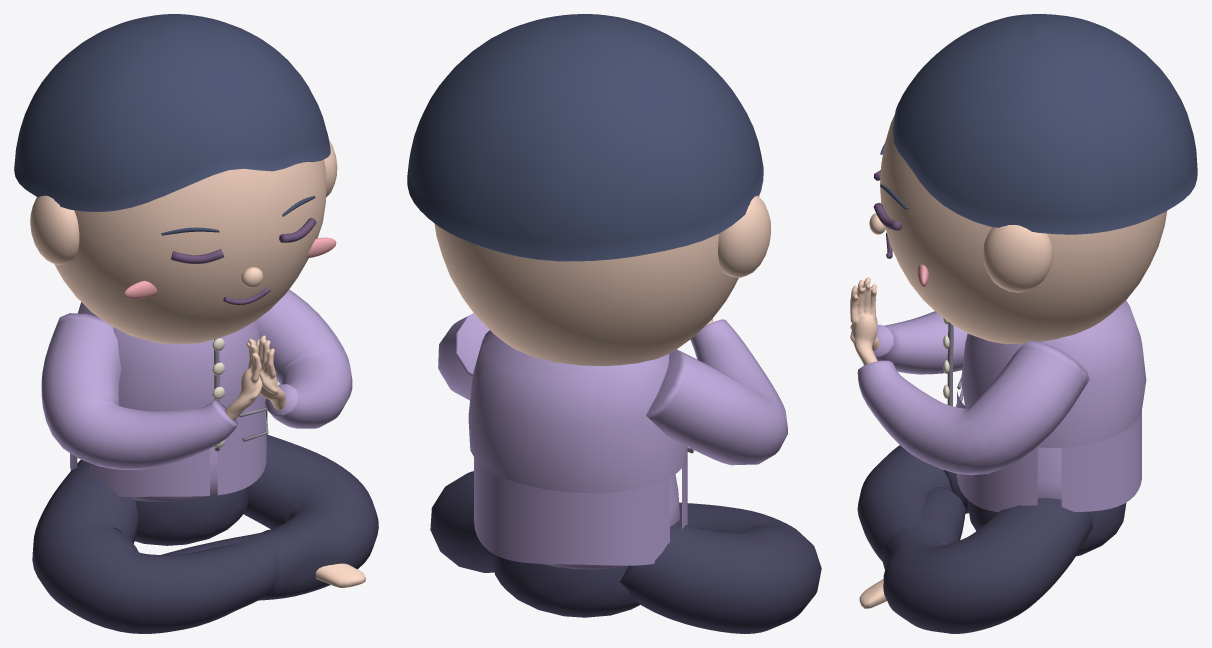
The model's file is meditator_male_cross_prayer_p06a.glb.
The picture shows the model from 3 angles, left to right: view 1: azimuth 30°, elevation 25°; view 2: azimuth 150°, elevation 25°; view 3: azimuth 270°, elevation 25°; orthographic projection. The views are drawn at different scales.
Visible parts, largest first — view 1: hair_neat_male_sidepart_p06a_object, ao_ba_ba_pants_SeatRoot_object, ao_ba_ba_top_UpperBodyBreath_object, skin_rose_cream_UpperBodyBreath_object, eyes_mauve_UpperBodyBreath_object, skin_rose_cream_SeatRoot_ankle_instep_toes_p05e_object, skin_blush_UpperBodyBreath_object; view 2: hair_neat_male_sidepart_p06a_object, ao_ba_ba_top_UpperBodyBreath_object, skin_rose_cream_UpperBodyBreath_object, ao_ba_ba_pants_SeatRoot_object; view 3: hair_neat_male_sidepart_p06a_object, ao_ba_ba_top_UpperBodyBreath_object, skin_rose_cream_UpperBodyBreath_object, ao_ba_ba_pants_SeatRoot_object, ao_ba_ba_placket_UpperBodyBreath_object, eyes_mauve_UpperBodyBreath_object, skin_rose_cream_SeatRoot_ankle_instep_toes_p05e_object.
Part boxes in pixels (bbox=[...]): hair_neat_male_sidepart_p06a_object: bbox=[14, 14, 330, 235]; ao_ba_ba_pants_SeatRoot_object: bbox=[32, 434, 378, 633]; ao_ba_ba_top_UpperBodyBreath_object: bbox=[41, 289, 352, 501]; skin_rose_cream_UpperBodyBreath_object: bbox=[30, 140, 337, 420]; eyes_mauve_UpperBodyBreath_object: bbox=[171, 217, 316, 305]; skin_rose_cream_SeatRoot_ankle_instep_toes_p05e_object: bbox=[315, 563, 365, 587]; skin_blush_UpperBodyBreath_object: bbox=[124, 237, 336, 299]; hair_neat_male_sidepart_p06a_object: bbox=[407, 14, 763, 261]; ao_ba_ba_top_UpperBodyBreath_object: bbox=[438, 313, 787, 569]; skin_rose_cream_UpperBodyBreath_object: bbox=[434, 195, 770, 365]; ao_ba_ba_pants_SeatRoot_object: bbox=[430, 471, 821, 633]; hair_neat_male_sidepart_p06a_object: bbox=[880, 14, 1197, 234]; ao_ba_ba_top_UpperBodyBreath_object: bbox=[857, 300, 1146, 512]; skin_rose_cream_UpperBodyBreath_object: bbox=[850, 114, 1167, 365]; ao_ba_ba_pants_SeatRoot_object: bbox=[857, 445, 1126, 633]; ao_ba_ba_placket_UpperBodyBreath_object: bbox=[947, 322, 963, 407]; eyes_mauve_UpperBodyBreath_object: bbox=[873, 170, 902, 258]; skin_rose_cream_SeatRoot_ankle_instep_toes_p05e_object: bbox=[859, 579, 886, 608].
Bounding box in the file's own units: 0.7292 × 1.16 × 0.672.
